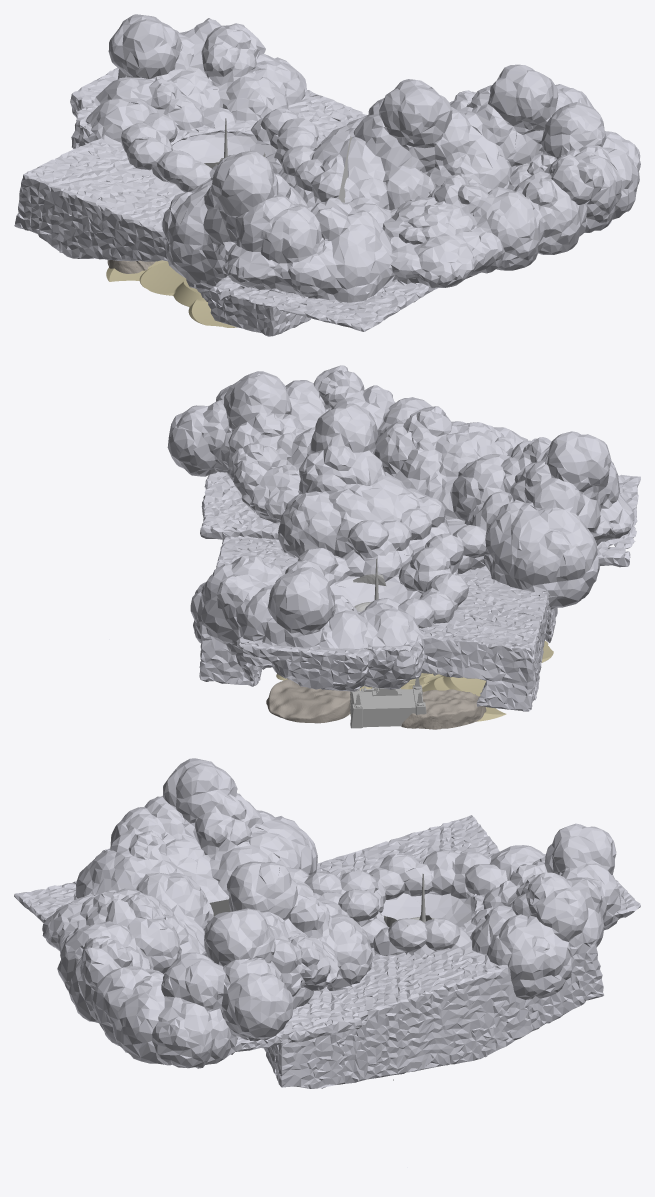
Rendered from BstBaked.glb.
3 renders of one model, top to bottom at view 1: azimuth 30°, elevation 25°; view 2: azimuth 150°, elevation 25°; view 3: azimuth 270°, elevation 25°, orthographic. The views are drawn at different scales.
Parts seen in each view (by area): view 1: BstBaked_cloud, BstBaked_terrain; view 2: BstBaked_cloud, BstBaked_terrain, BstBaked_DuskFinalTemple_01; view 3: BstBaked_cloud.
Part boxes in pixels (box(x1,y1,x2,y2)): BstBaked_cloud: box(14, 14, 640, 336); BstBaked_terrain: box(106, 260, 236, 327); BstBaked_cloud: box(167, 365, 640, 711); BstBaked_terrain: box(266, 641, 553, 729); BstBaked_DuskFinalTemple_01: box(350, 677, 426, 728); BstBaked_cloud: box(14, 758, 640, 1088).
Size of what is drawn, in the model's own units: 1684 by 726 by 1835.
